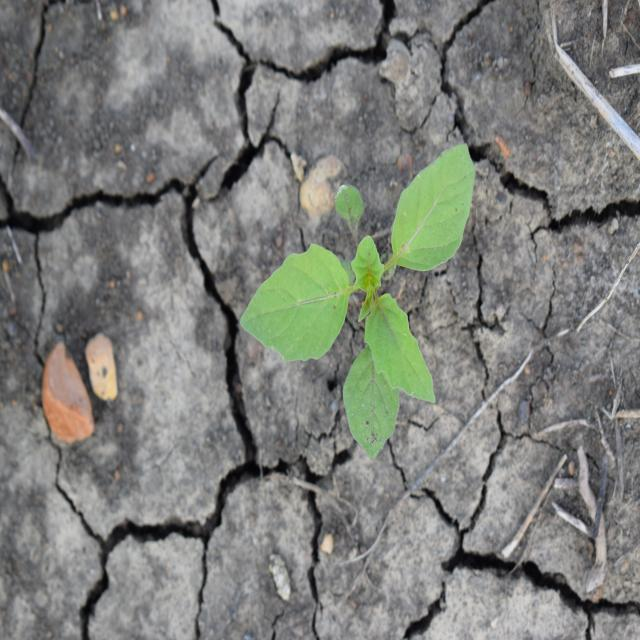CutleafGroundcherry: (239, 140, 478, 462)
